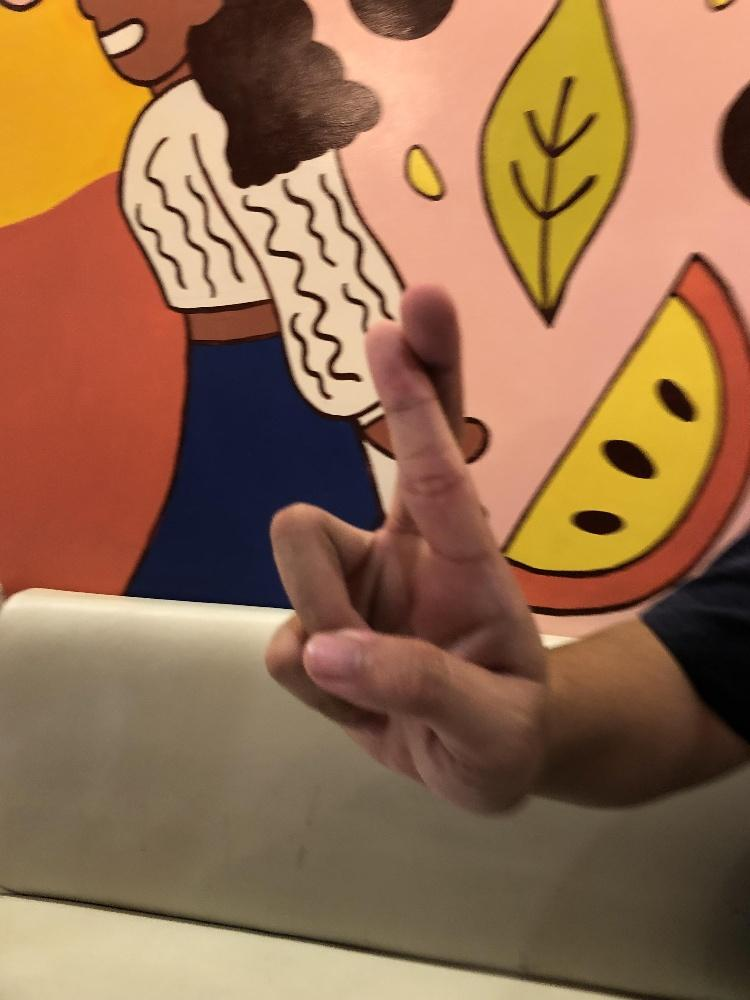r: (259, 281, 557, 822)
